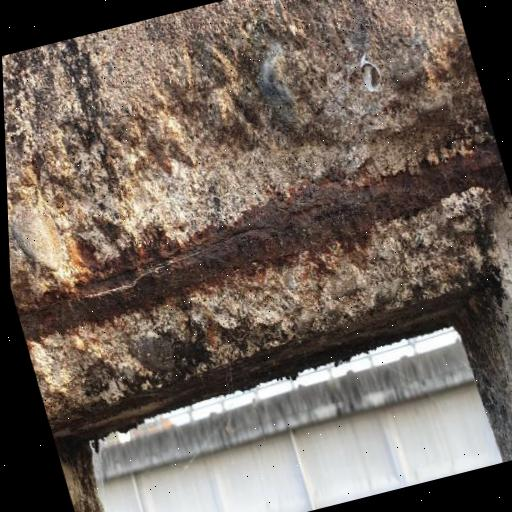exposed_rebar: (17, 143, 506, 341)
